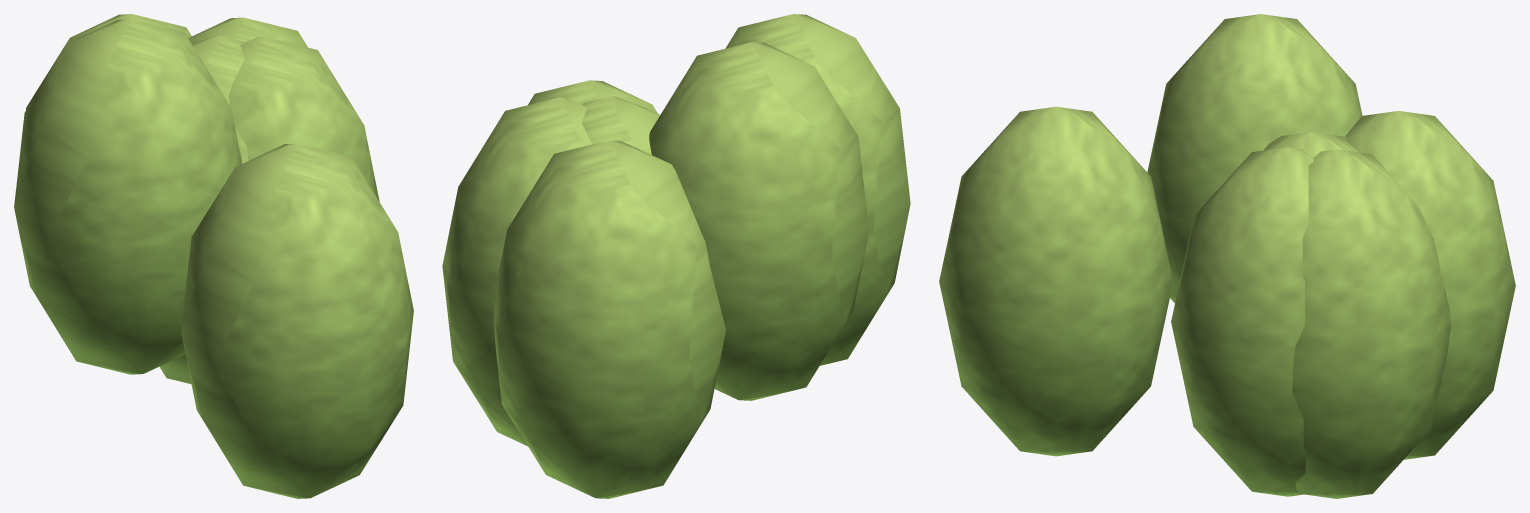
Rendered from hopcones.glb.
3 views of the same model, side by side, from view 1: azimuth 30°, elevation 25°; view 2: azimuth 150°, elevation 25°; view 3: azimuth 270°, elevation 25° (orthographic). The views are drawn at different scales.
Visible parts, largest first — view 1: hopcones; view 2: hopcones; view 3: hopcones.
Boxes of the visible parts, <box> form: hopcones: <box>14,14,413,498</box>; hopcones: <box>442,14,910,498</box>; hopcones: <box>939,14,1515,498</box>.
Size of the model in its own units: 0.0573 by 0.066 by 0.0837.
Materials: 1 (1 with a texture image).
